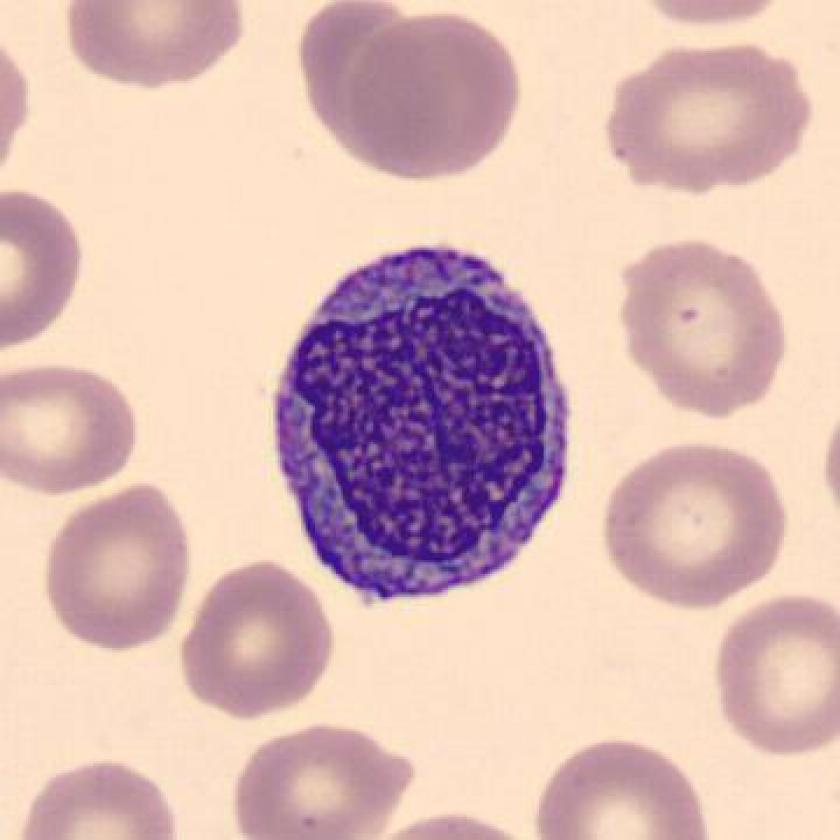monocyte: (253, 228, 594, 621)
